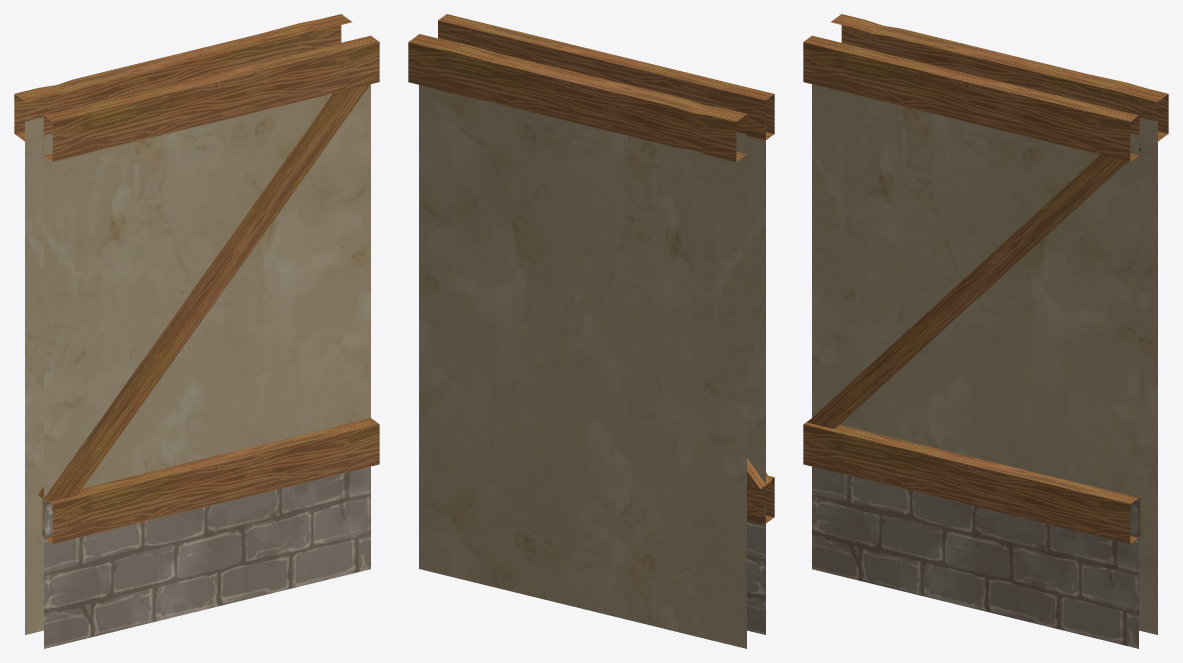
File: Wall_Plaster_Straight_R.gltf
The picture shows the model from 3 angles, left to right: view 1: azimuth 30°, elevation 25°; view 2: azimuth 150°, elevation 25°; view 3: azimuth 330°, elevation 25°; orthographic projection.
Visible parts, largest first — view 1: Wall_Plaster_Straight_R; view 2: Wall_Plaster_Straight_R; view 3: Wall_Plaster_Straight_R.
Boxes of the visible parts, <box> form: Wall_Plaster_Straight_R: <box>14,14,379,648</box>; Wall_Plaster_Straight_R: <box>408,14,774,648</box>; Wall_Plaster_Straight_R: <box>803,14,1168,648</box>.
Bounding box in the file's own units: 2 × 3.12 × 0.4065.
3 materials, 3 textured.
